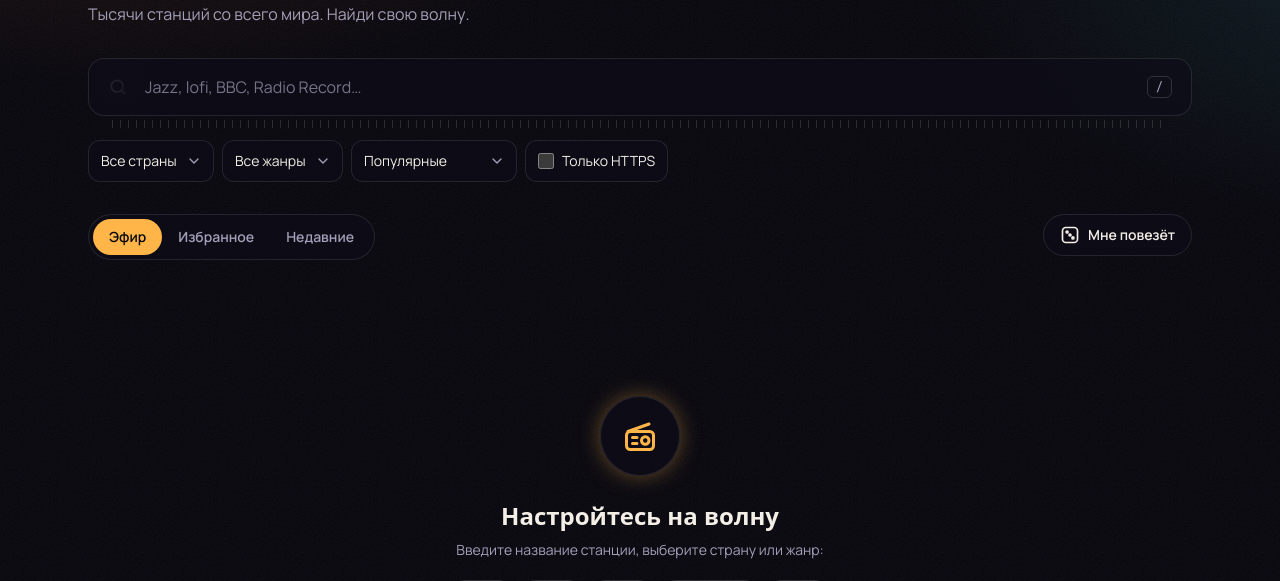
App › показывает ошибку и позволяет повторить
Type "rock" into the search field named "Поиск станции по названию" at (640, 87), box [88,58,1192,116]
Then press Enter
(page scrolled)
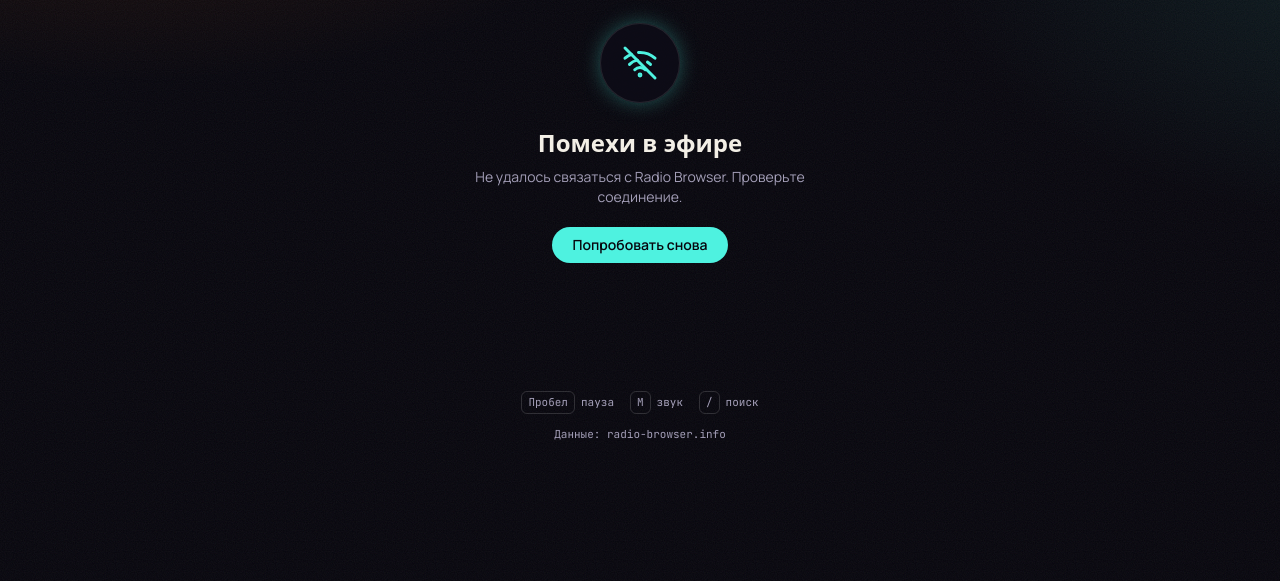
Result: the heading "Помехи в эфире" is shown at [538,127,742,159]
Click the button "Попробовать снова" at (640, 245), box [552,227,728,263]
(page scrolled)
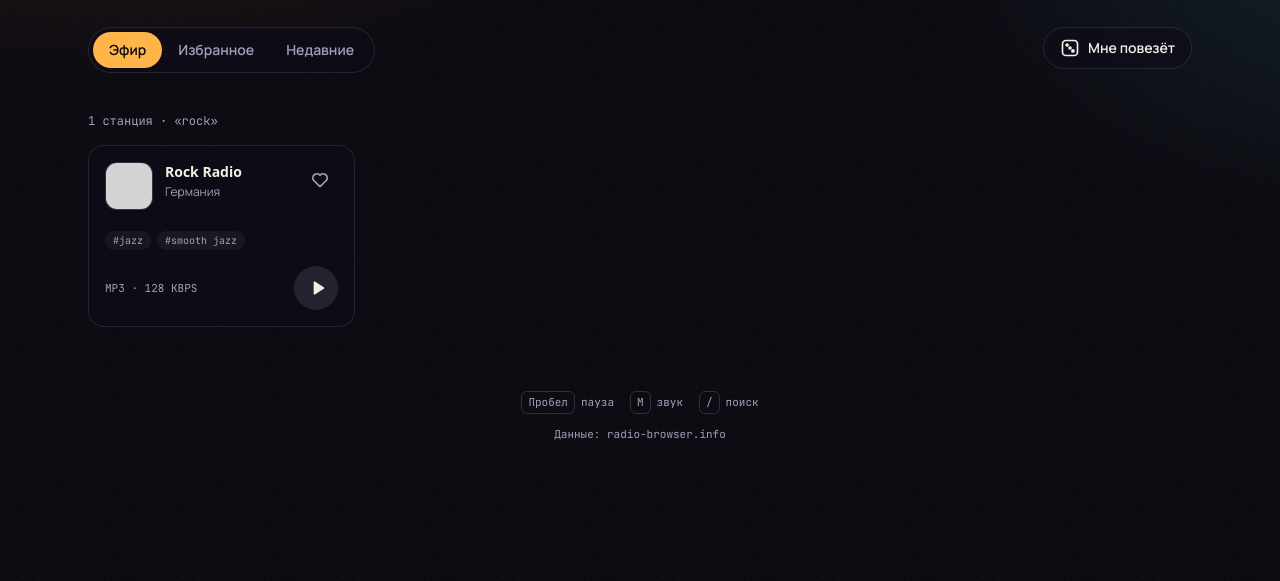
Result: the heading "Rock Radio" is shown at [165,162,242,181]
